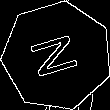N_E: (27, 29, 87, 83)
